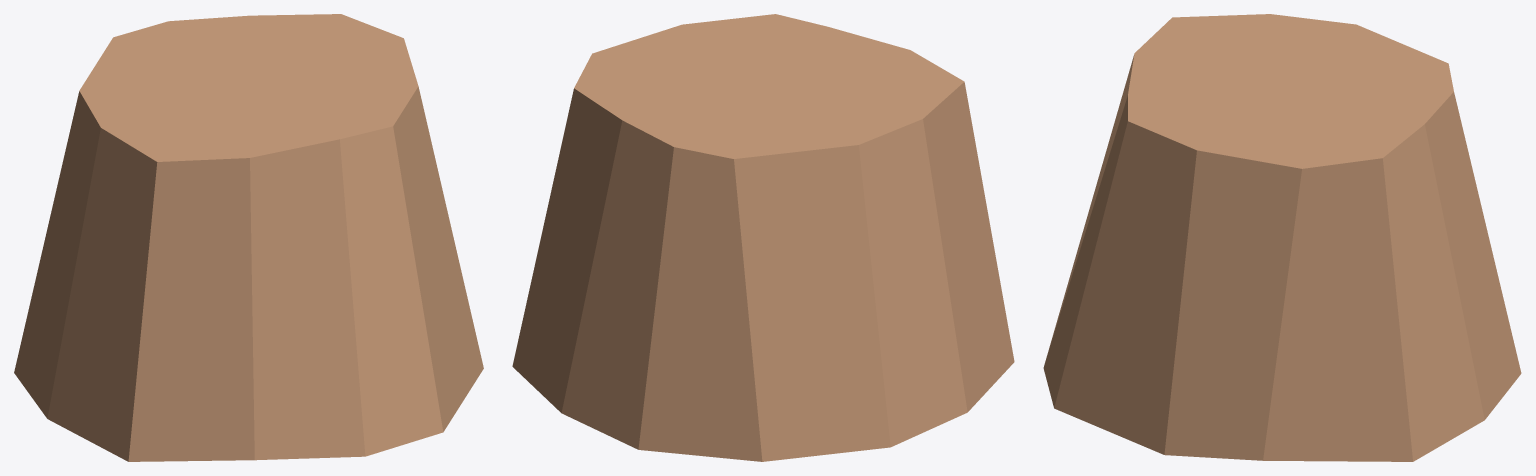
File: Mesa_A.glb
3 renders of one model, left to right at view 1: azimuth 30°, elevation 25°; view 2: azimuth 150°, elevation 25°; view 3: azimuth 270°, elevation 25°, orthographic.
Visible parts, largest first — view 1: Mesa_A; view 2: Mesa_A; view 3: Mesa_A.
Part boxes in pixels (bbox=[...]): Mesa_A: bbox=[14, 14, 483, 461]; Mesa_A: bbox=[512, 14, 1014, 461]; Mesa_A: bbox=[1043, 14, 1521, 461].
Bounding box in the file's own units: 17.5 × 12 × 18.51.
